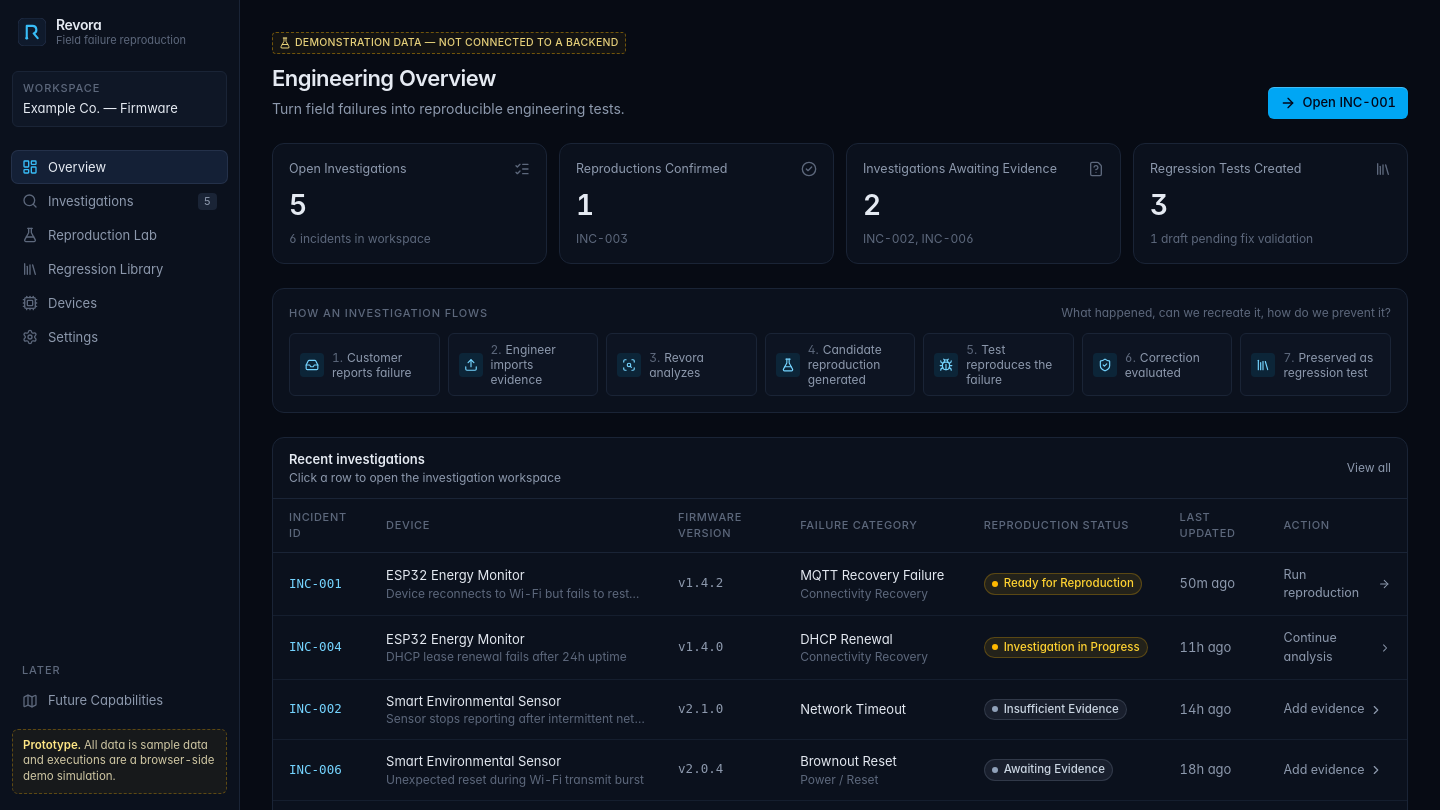
Test case: App › navigates between primary sections
The width and height of the screenshot is (1440, 810).
Expected: the navigation bar named "Primary" is shown, [0,0,239,809]
Click the link "Regression Library" at coordinates (93, 269), box [22,260,163,277]
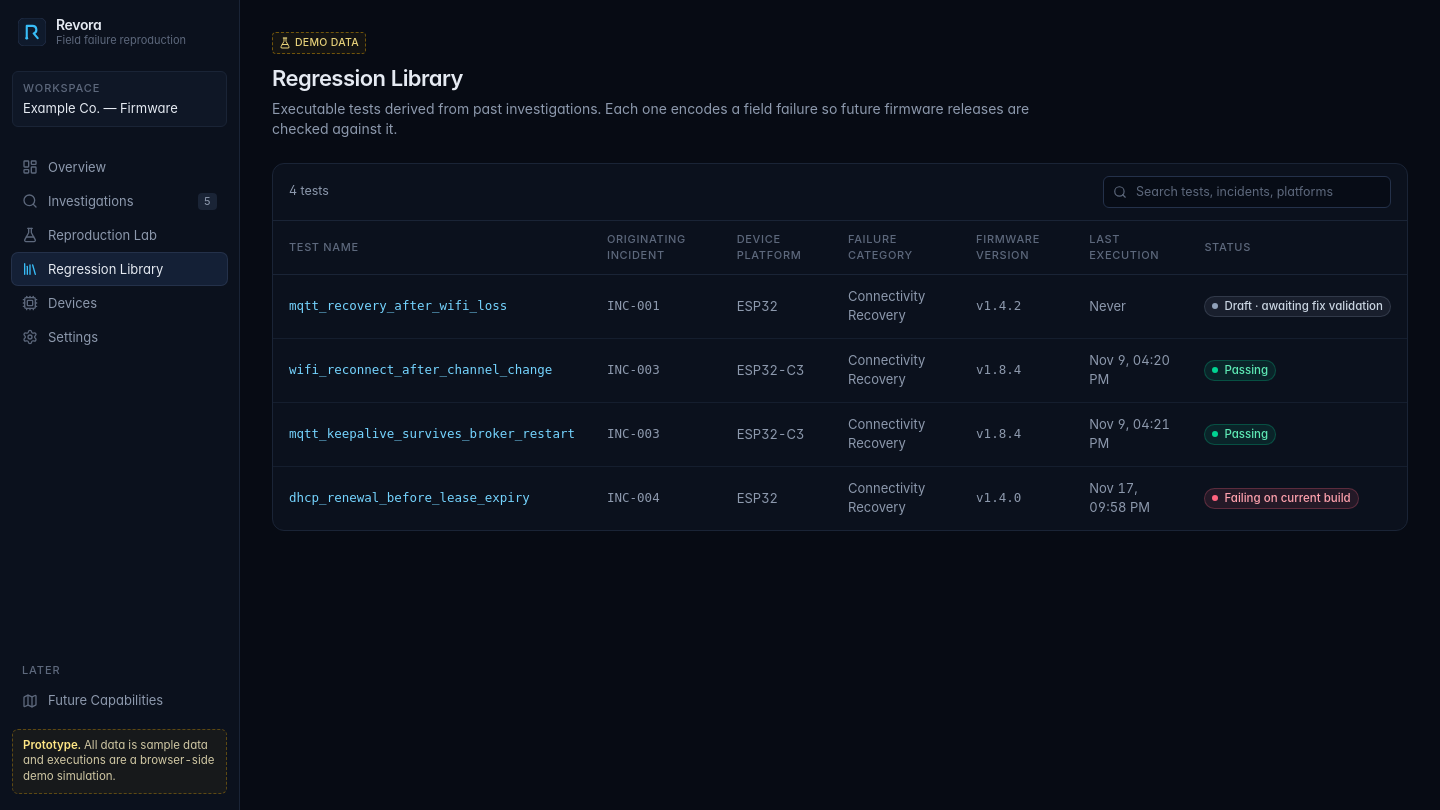
Result: the heading "Regression Library" is shown at [272,65,463,91]
Click the link "Devices" at coordinates (60, 303), box [22,294,97,311]
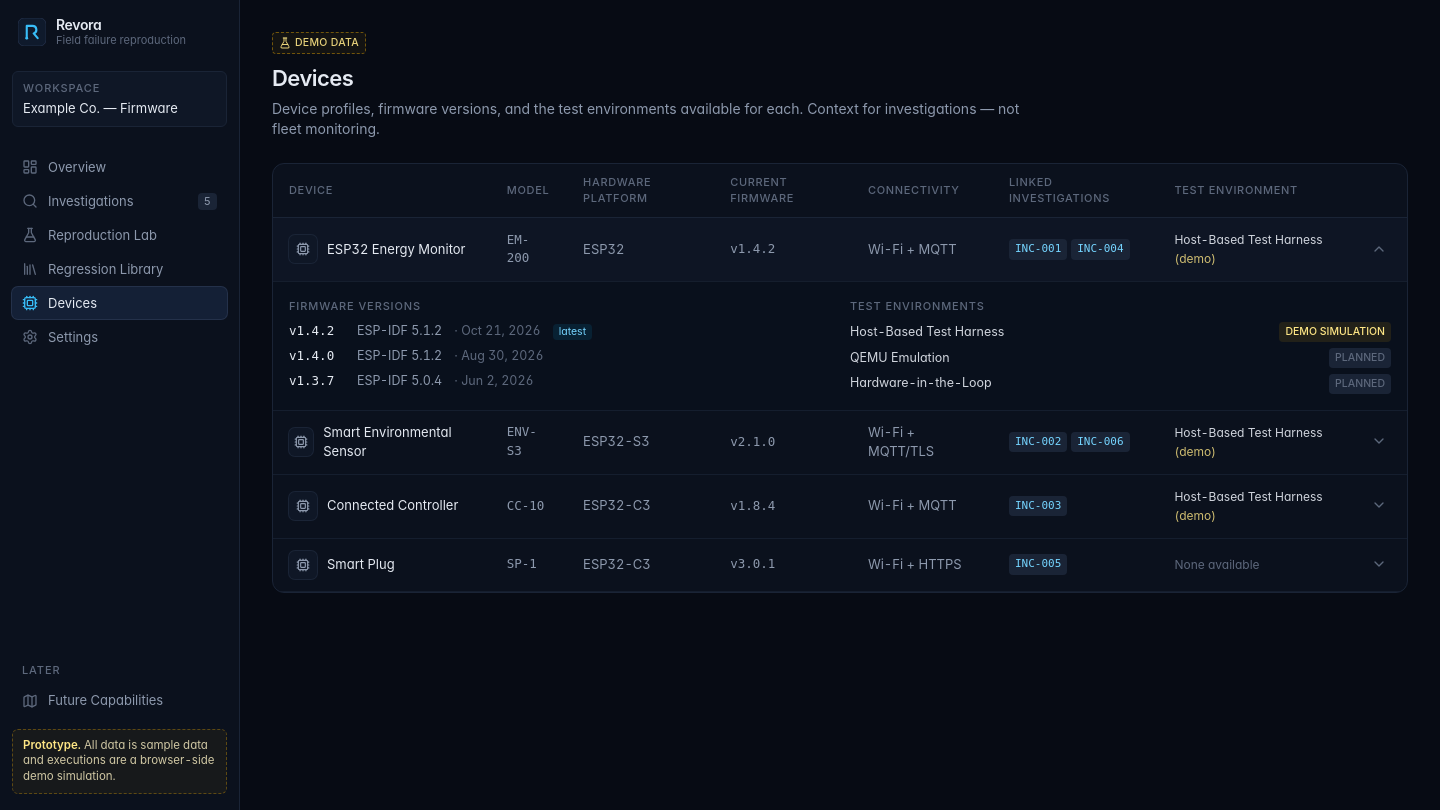
Result: the heading "Devices" is shown at [272,65,353,91]
